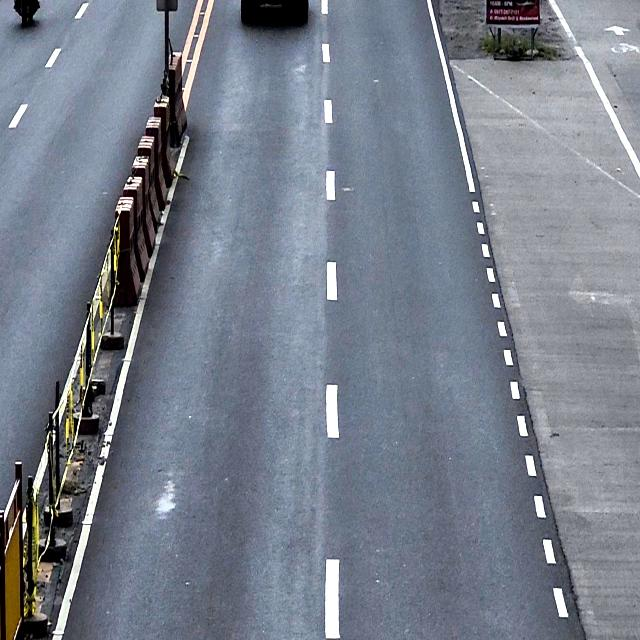Motorcycle: (13, 0, 40, 27)
